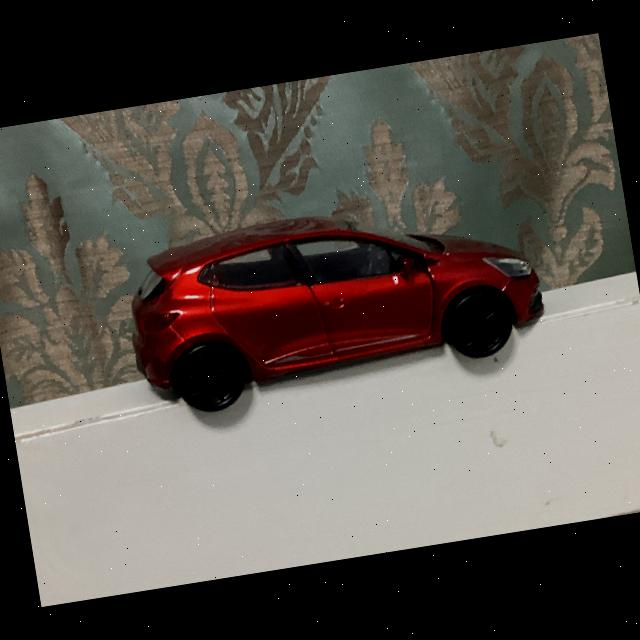Dogru_Jant: (180, 345, 243, 406), (452, 296, 508, 352)
